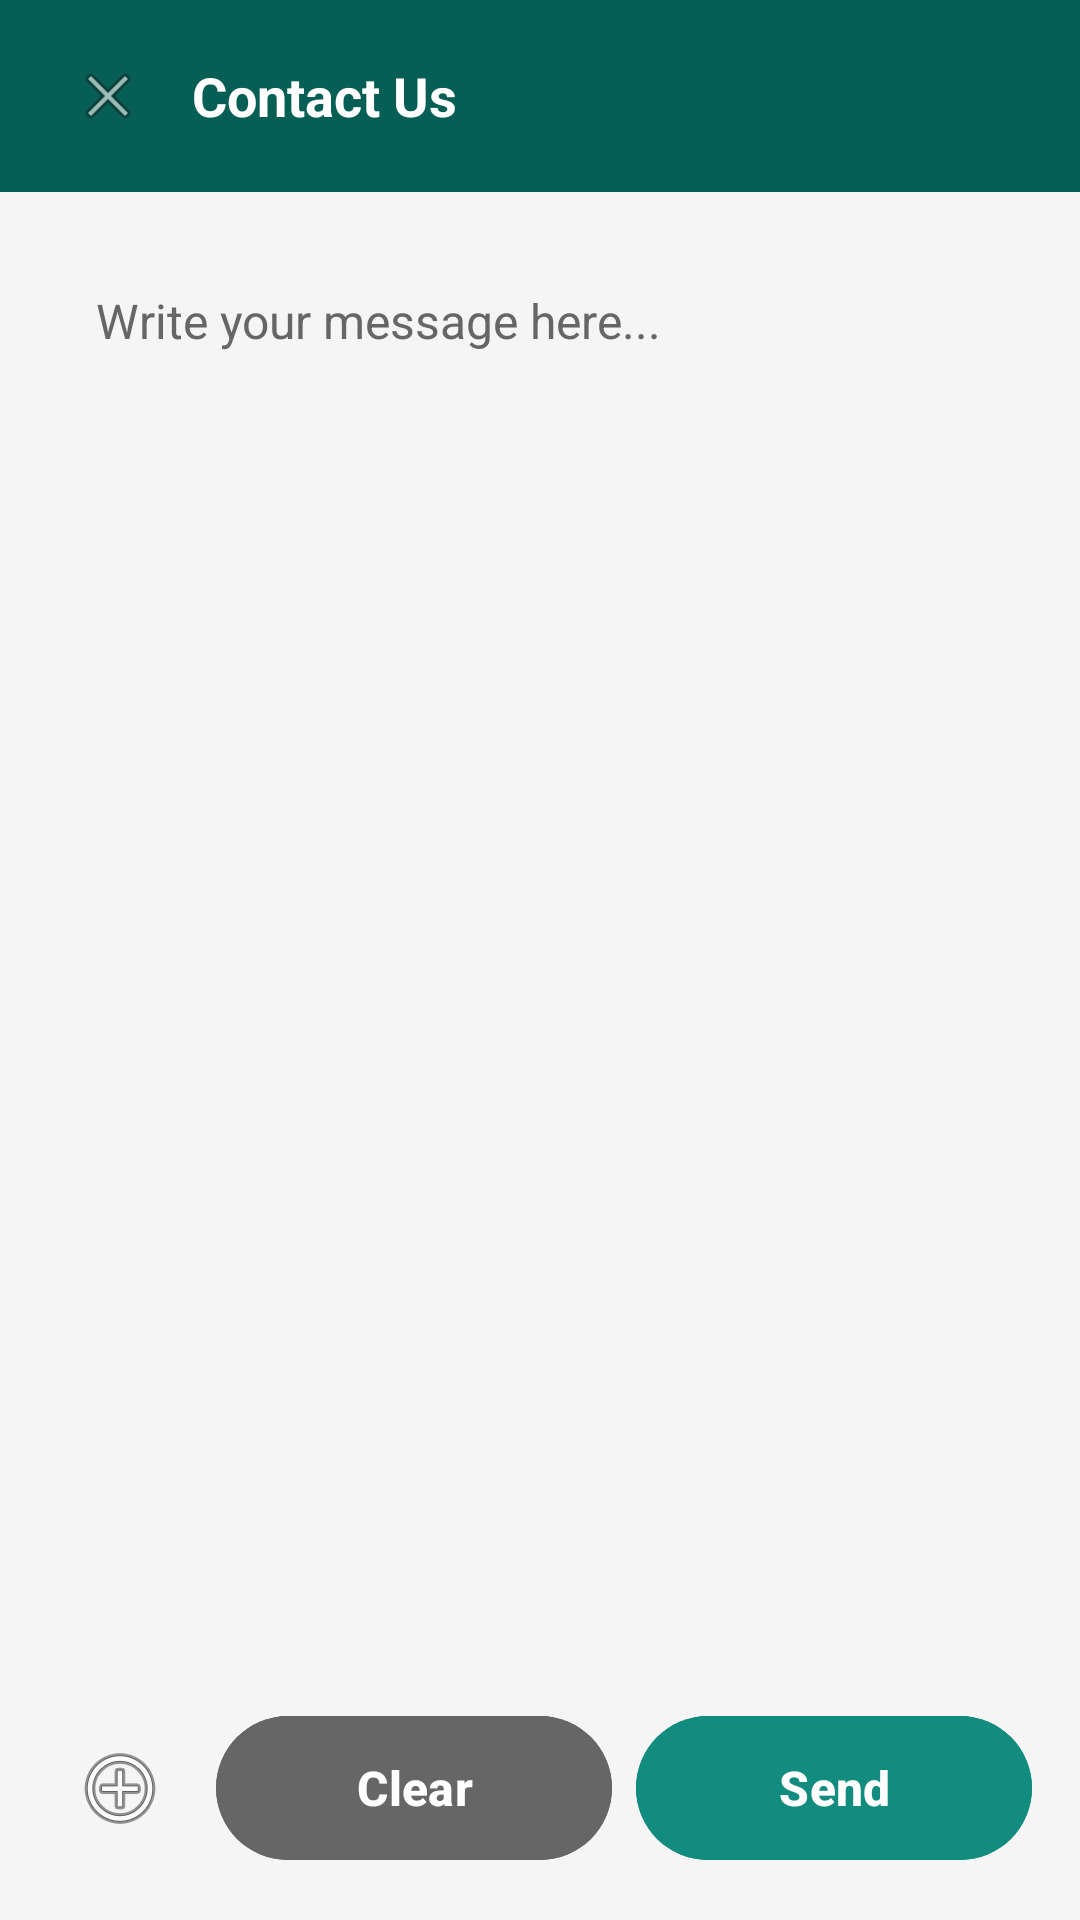

Screen size 1080w x 1920h. Icon name, then its box in pixels as bbox=[x1, y1, x2, y2]:
Attach: bbox=[84, 1753, 156, 1824]
Close: bbox=[86, 74, 130, 118]
